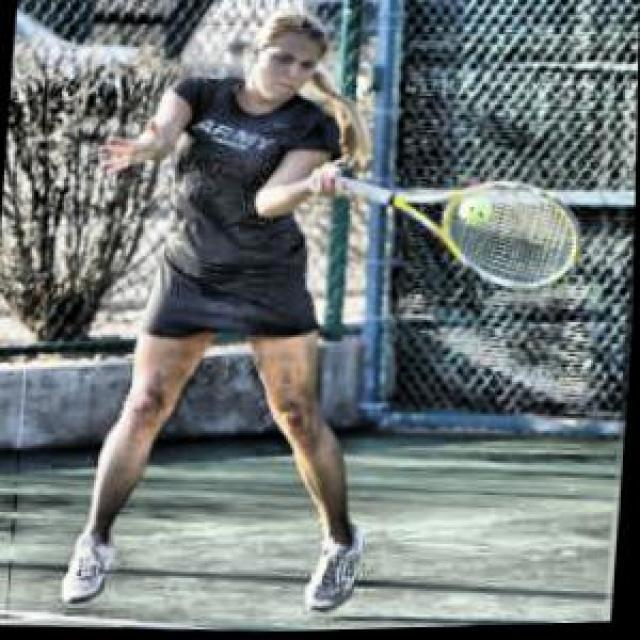tennis-ball: (458, 200, 491, 228)
